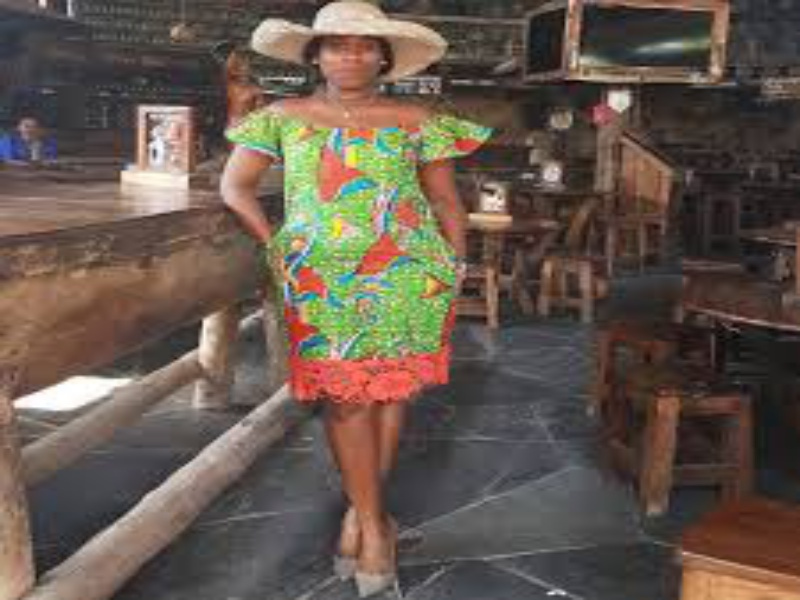TsisyArotava: (294, 1, 417, 100)
